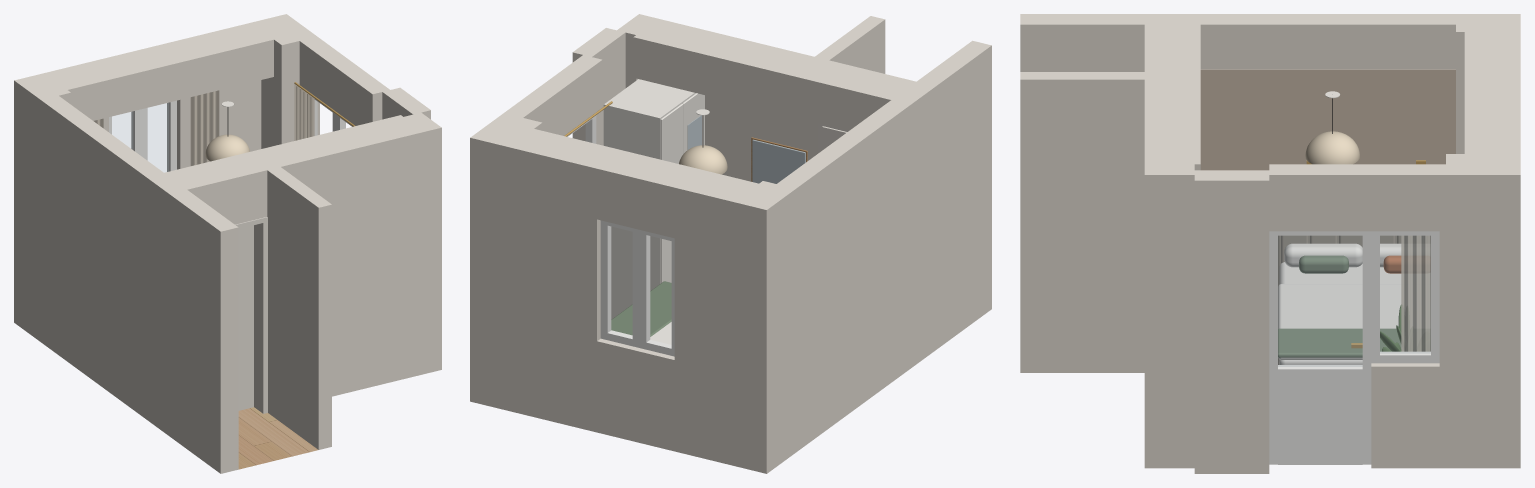
File: yatak-odasi.glb
3 views of the same model, side by side, from view 1: azimuth 30°, elevation 25°; view 2: azimuth 150°, elevation 25°; view 3: azimuth 270°, elevation 25° (orthographic). The views are drawn at different scales.
Parts seen in each view (by area): view 1: kabuk, perde, aydinlatma; view 2: kabuk, gardirop, sifonyer, yatak, aydinlatma; view 3: kabuk, yatak, perde, aydinlatma.
Boxes of the visible parts, x1,y1,x2,y2 form: kabuk: [14, 14, 441, 473]; perde: [93, 82, 354, 165]; aydinlatma: [205, 101, 249, 161]; kabuk: [470, 14, 991, 473]; gardirop: [603, 79, 704, 319]; sifonyer: [751, 137, 807, 183]; yatak: [611, 281, 671, 344]; aydinlatma: [679, 109, 727, 174]; kabuk: [1020, 14, 1520, 473]; yatak: [1278, 235, 1401, 364]; perde: [1401, 235, 1430, 351]; aydinlatma: [1305, 91, 1425, 164].
Bounding box in the file's own units: 317 × 260 × 402.
25 materials, 3 textured.
